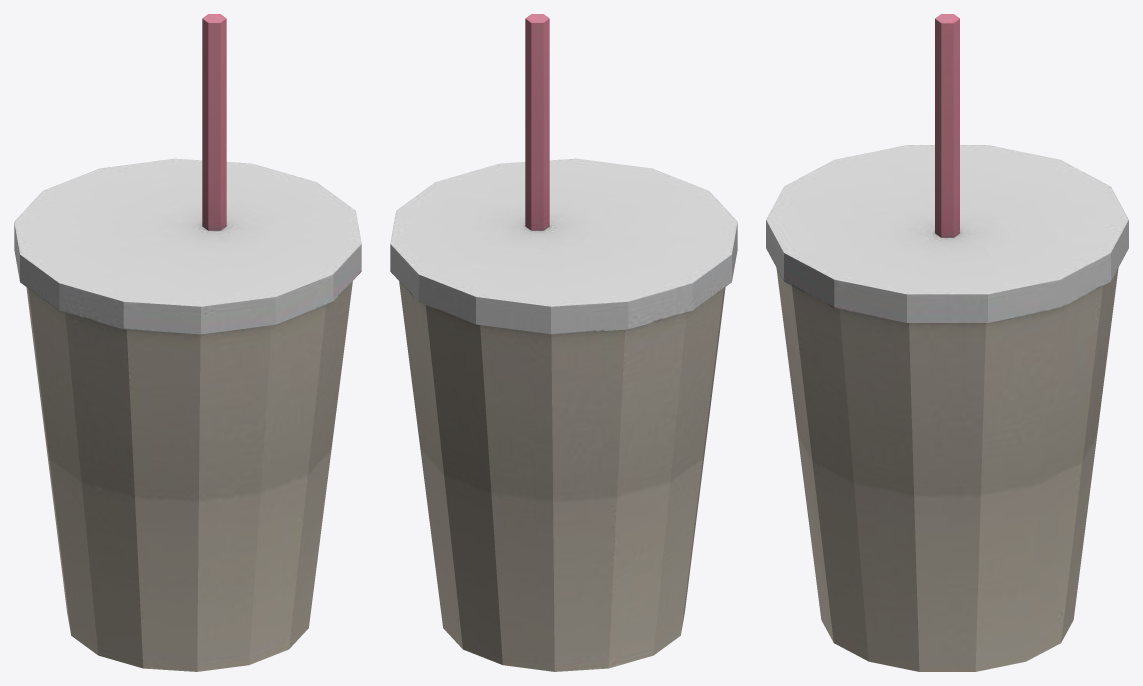
The model's file is prop_cup.glb.
3 renders of one model, left to right at view 1: azimuth 30°, elevation 25°; view 2: azimuth 150°, elevation 25°; view 3: azimuth 270°, elevation 25°, orthographic. The views are drawn at different scales.
Visible parts, largest first — view 1: Cup; view 2: Cup; view 3: Cup.
Part boxes in pixels (<box>): Cup: <box>14,14,361,671</box>; Cup: <box>390,14,737,671</box>; Cup: <box>766,14,1128,671</box>.
Bounding box in the file's own units: 0.2242 × 0.43 × 0.23.
Materials: 3 (3 with a texture image).
